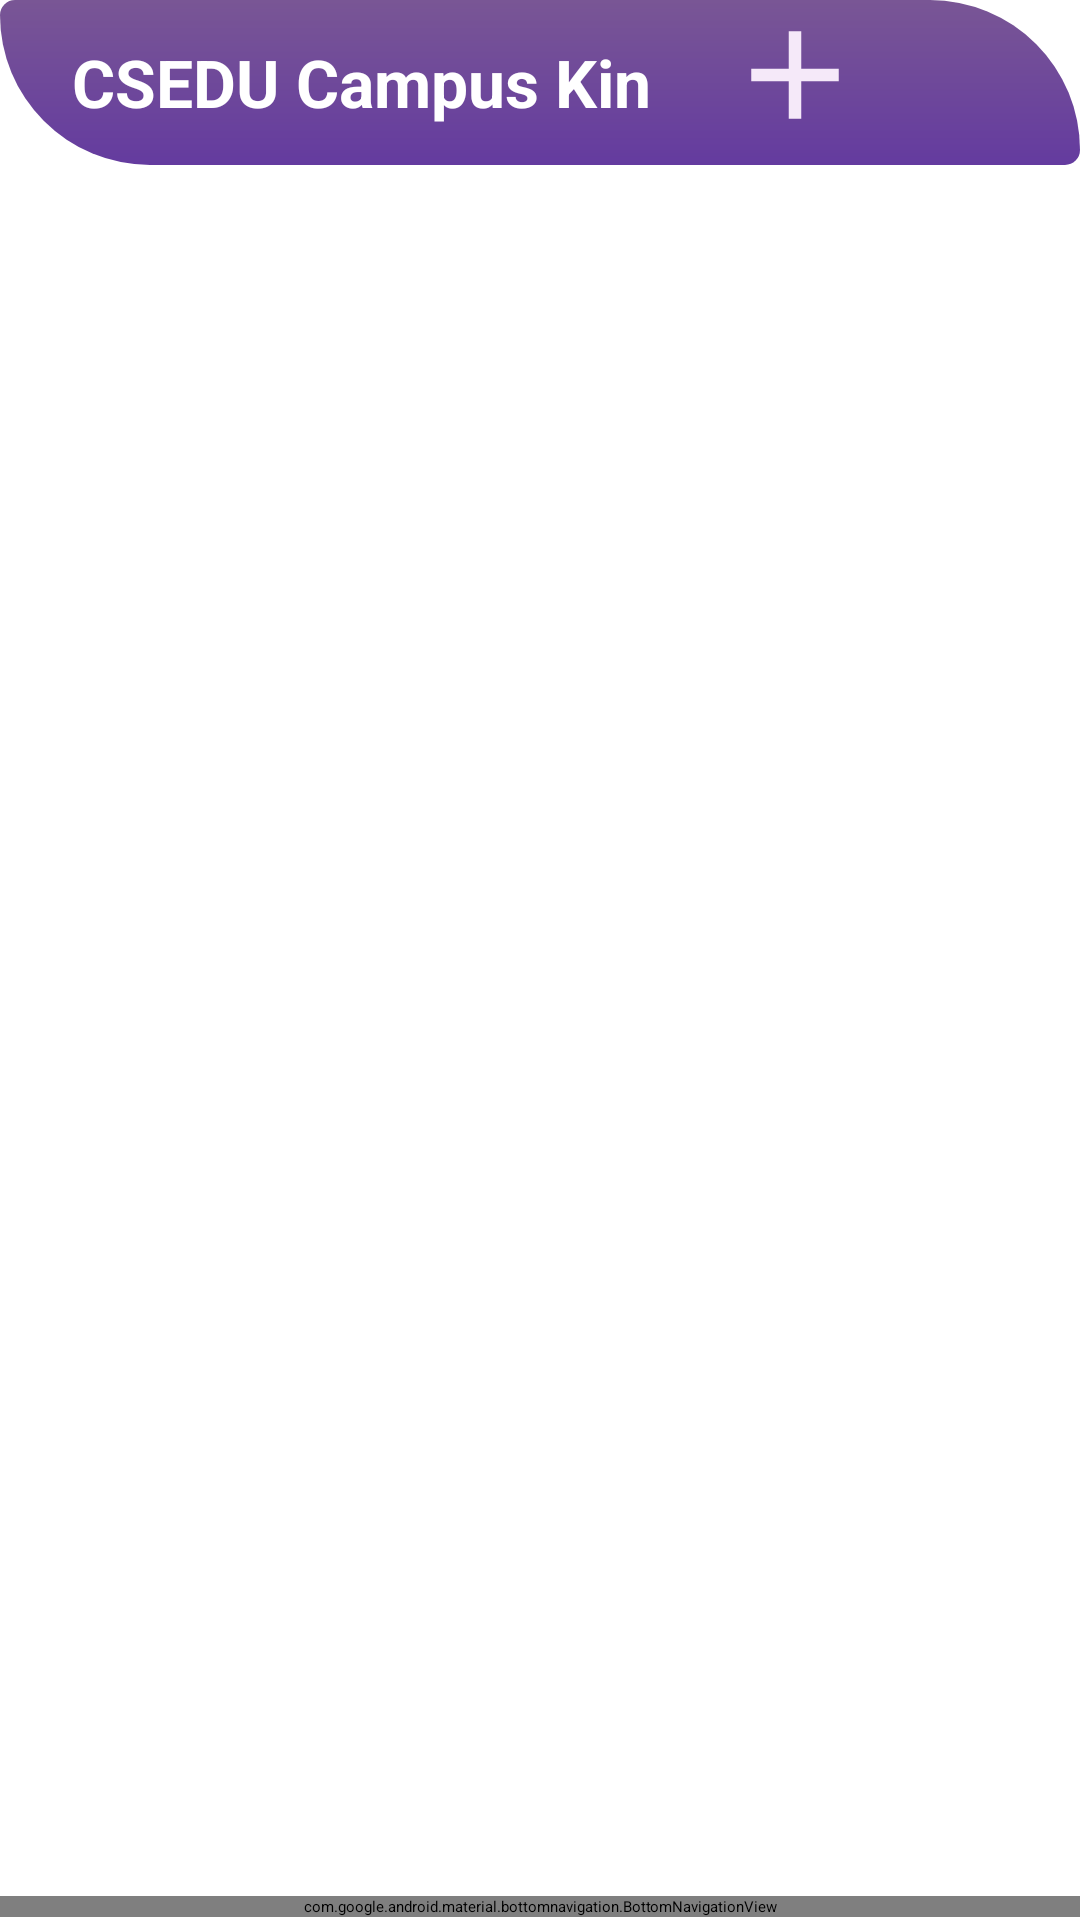

Icons on this 1080w x 1920h Android screen, each with the point to tap as [x,y]:
add: [795,59]
